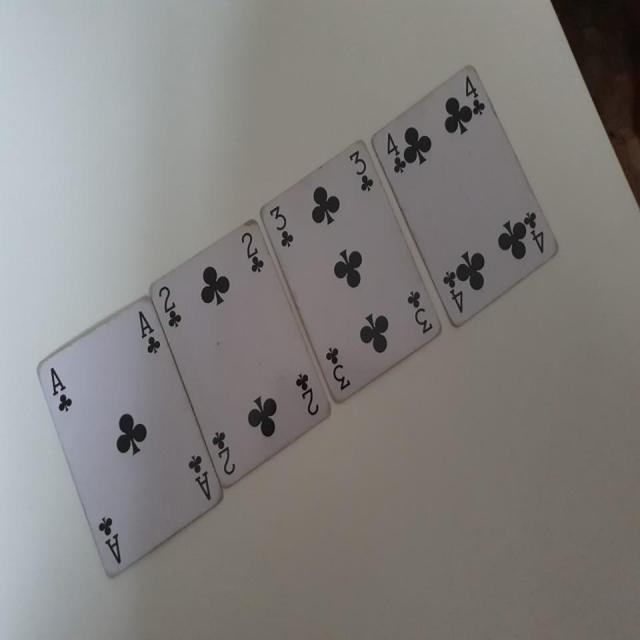2 Trefoils: (149, 216, 332, 490)
3 Trefoils: (258, 140, 446, 404)
4 Trefoils: (370, 63, 560, 331)
A Trefoils: (36, 292, 225, 578)
